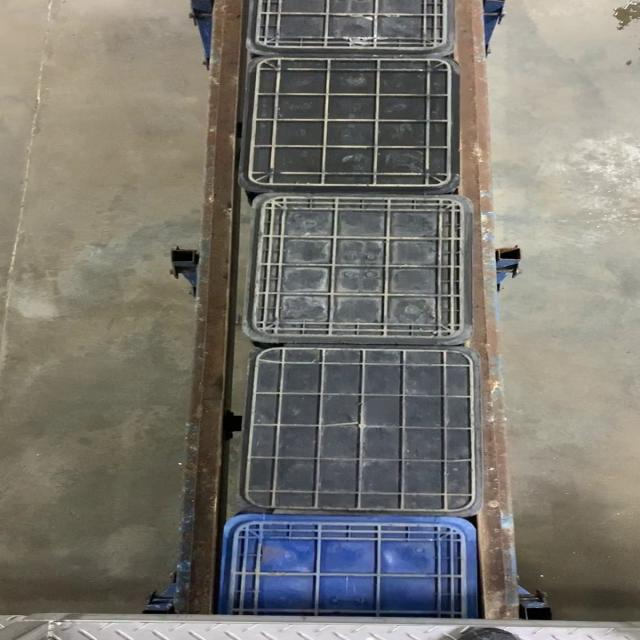Box: (235, 346, 482, 518), (242, 195, 473, 345), (237, 54, 460, 194)
